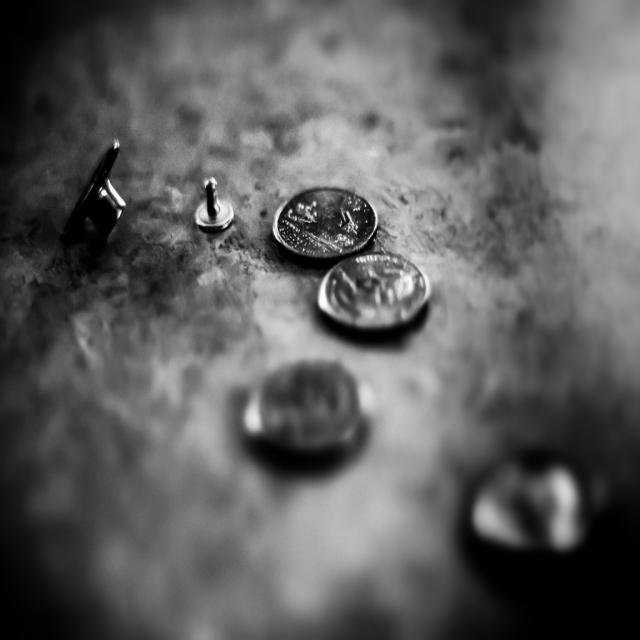Coin: (320, 247, 434, 340), (269, 187, 380, 257)
